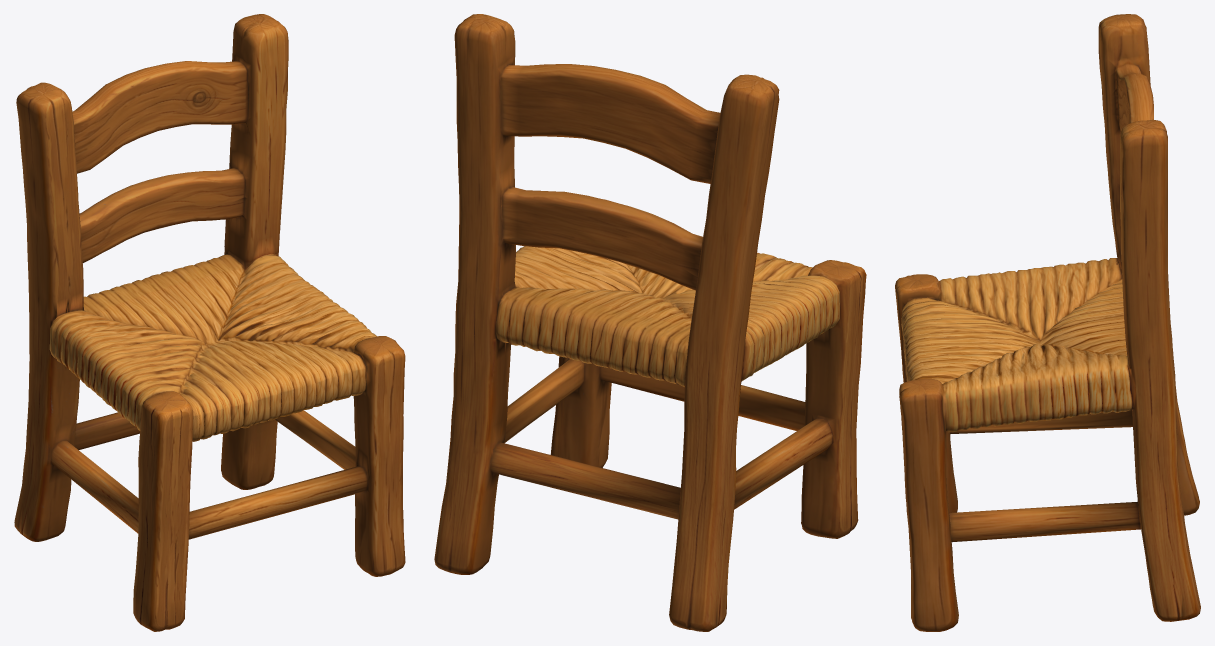
File: wooden_chair.glb
3 views of the same model, side by side, from view 1: azimuth 30°, elevation 25°; view 2: azimuth 150°, elevation 25°; view 3: azimuth 270°, elevation 25° (orthographic). The views are drawn at different scales.
Visible parts, largest first — view 1: tripo_node_34a799ad-67e4-4c61-a4c7-b68406fb0adb; view 2: tripo_node_34a799ad-67e4-4c61-a4c7-b68406fb0adb; view 3: tripo_node_34a799ad-67e4-4c61-a4c7-b68406fb0adb.
Boxes of the visible parts, x1,y1,x2,y2 form: tripo_node_34a799ad-67e4-4c61-a4c7-b68406fb0adb: (14, 14, 405, 631); tripo_node_34a799ad-67e4-4c61-a4c7-b68406fb0adb: (434, 14, 866, 631); tripo_node_34a799ad-67e4-4c61-a4c7-b68406fb0adb: (895, 14, 1200, 631).
Size of the model in its own units: 0.603 by 0.9782 by 0.5494.
1 material, 1 textured.
